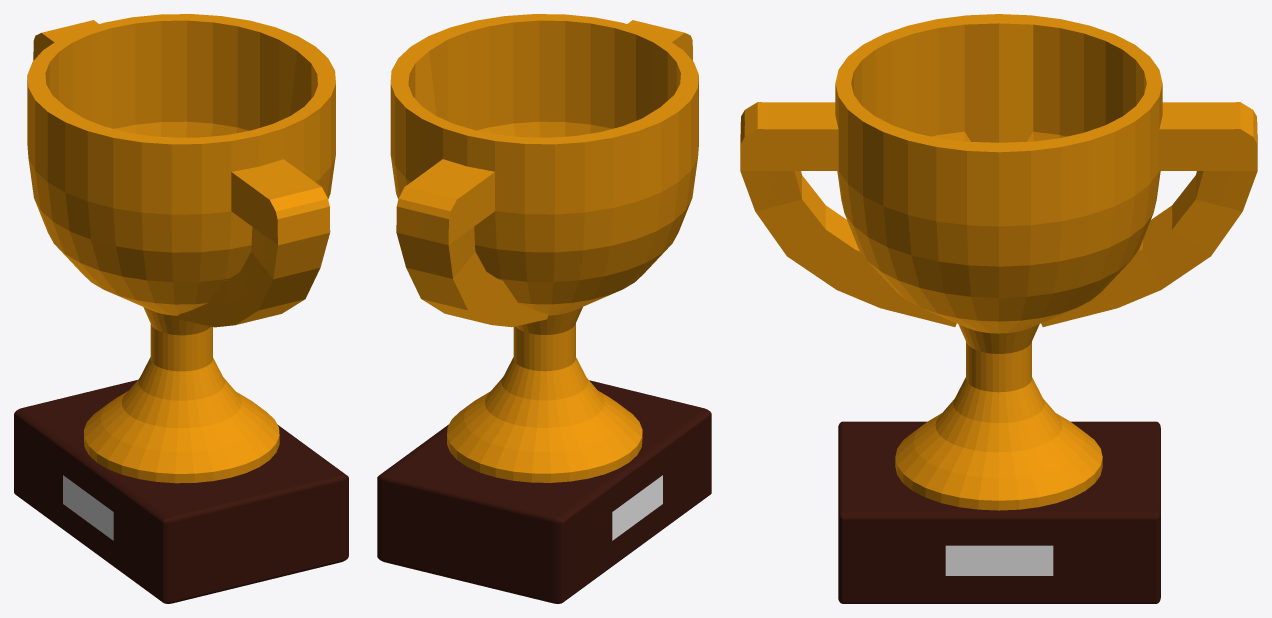
Rendered from Low Poly Cup.obj.
3 views of the same model, side by side, from view 1: azimuth 30°, elevation 25°; view 2: azimuth 150°, elevation 25°; view 3: azimuth 270°, elevation 25° (orthographic). The views are drawn at different scales.
Parts seen in each view (by area): view 1: Circle, Cube_Cube.001; view 2: Circle, Cube_Cube.001; view 3: Circle, Cube_Cube.001.
Part boxes in pixels (x1,y1,x2,y2): Circle: [27, 14, 335, 483]; Cube_Cube.001: [14, 380, 348, 603]; Circle: [390, 14, 698, 482]; Cube_Cube.001: [377, 380, 711, 603]; Circle: [740, 14, 1257, 510]; Cube_Cube.001: [838, 421, 1160, 603].
Size of the model in its own units: 0.7445 by 1.19 by 1.18.
